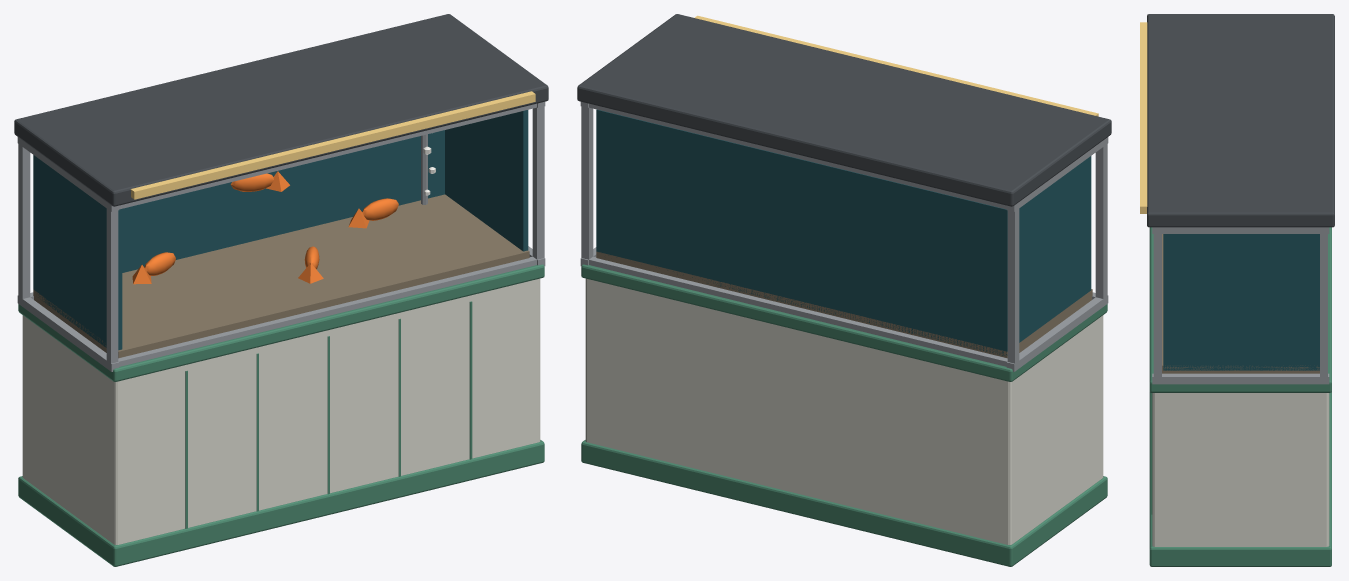
File: fish_tank.glb
3 renders of one model, left to right at view 1: azimuth 30°, elevation 25°; view 2: azimuth 150°, elevation 25°; view 3: azimuth 270°, elevation 25°, orthographic. The views are drawn at different scales.
Parts seen in each view (by area): view 1: fish_tank; view 2: fish_tank; view 3: fish_tank.
Boxes of the visible parts, bbox=[...] form: fish_tank: bbox=[14, 14, 548, 566]; fish_tank: bbox=[577, 14, 1111, 566]; fish_tank: bbox=[1140, 14, 1334, 566].
Size of the model in its own units: 1.74 by 1.44 by 0.715.
